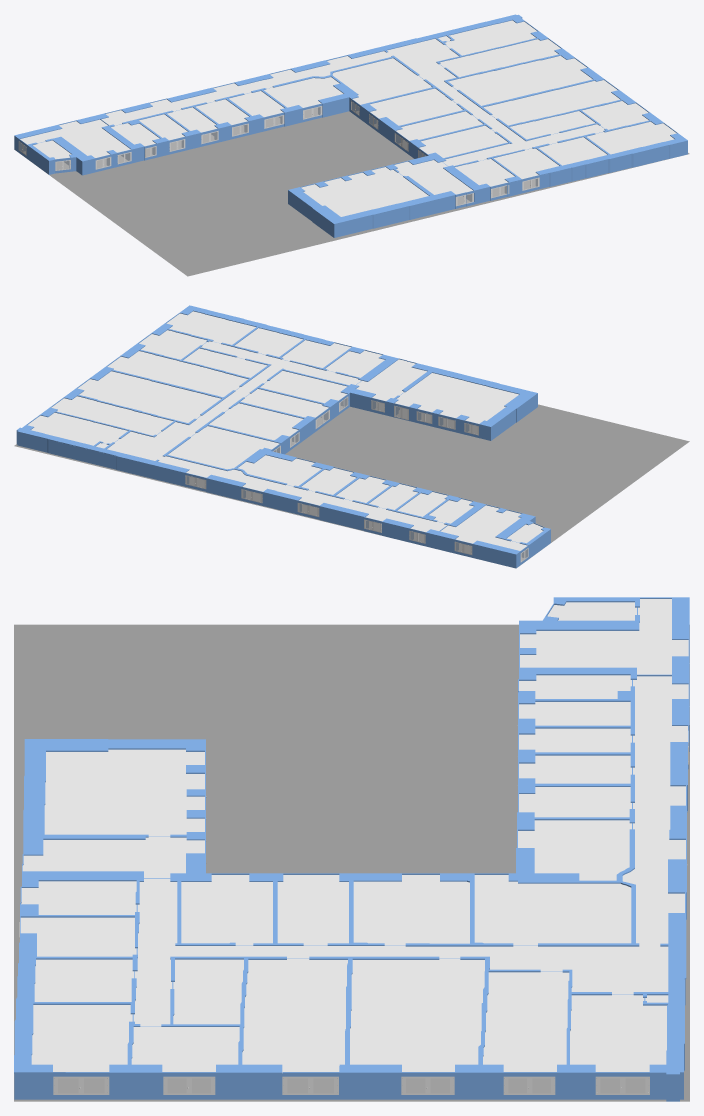
The model's file is 3rdfloor.obj.
3 views of the same model, one above another, from view 1: azimuth 30°, elevation 25°; view 2: azimuth 150°, elevation 25°; view 3: azimuth 270°, elevation 25° (orthographic). The views are drawn at different scales.
Visible parts, largest first — view 1: ground_1, room_645_3613, room_623_3589, room_612_3579, room_604_3563, room_611_3577, room_599_3553, room_613_3581, room_600_3555, room_591_3539, room_649_3617, room_608_3571 (+25 smaller); view 2: ground_1, room_645_3613, room_623_3589, room_612_3579, room_604_3563, room_611_3577, room_599_3553, room_613_3581, room_600_3555, room_591_3539, room_649_3617, room_608_3571 (+28 smaller); view 3: ground_1, room_645_3613, room_623_3589, room_612_3579, room_604_3563, room_611_3577, room_599_3553, room_613_3581, room_600_3555, room_591_3539, room_649_3617, room_608_3571 (+33 smaller).
Boxes of the visible parts, bbox=[...] form: ground_1: bbox=[15, 111, 689, 276]; room_645_3613: bbox=[101, 38, 604, 166]; room_623_3589: bbox=[144, 55, 687, 224]; room_612_3579: bbox=[448, 55, 592, 105]; room_604_3563: bbox=[301, 167, 428, 216]; room_611_3577: bbox=[483, 80, 620, 125]; room_599_3553: bbox=[332, 58, 431, 104]; room_613_3581: bbox=[440, 39, 560, 77]; room_600_3555: bbox=[370, 88, 462, 125]; room_591_3539: bbox=[20, 119, 130, 157]; room_649_3617: bbox=[444, 20, 536, 55]; room_608_3571: bbox=[586, 121, 676, 154]; ground_1: bbox=[14, 404, 689, 568]; room_645_3613: bbox=[107, 341, 446, 532]; room_623_3589: bbox=[163, 305, 537, 507]; room_612_3579: bbox=[77, 371, 221, 422]; room_604_3563: bbox=[395, 373, 518, 423]; room_611_3577: bbox=[107, 351, 247, 397]; room_599_3553: bbox=[168, 426, 279, 469]; room_613_3581: bbox=[51, 396, 173, 435]; room_600_3555: bbox=[209, 403, 303, 440]; room_591_3539: bbox=[440, 505, 527, 550]; room_649_3617: bbox=[27, 412, 127, 445]; room_608_3571: bbox=[166, 311, 255, 344]; ground_1: bbox=[14, 624, 689, 1101]; room_645_3613: bbox=[133, 676, 688, 1026]; room_623_3589: bbox=[14, 679, 639, 1073]; room_612_3579: bbox=[350, 959, 484, 1071]; room_604_3563: bbox=[44, 749, 204, 836]; room_611_3577: bbox=[242, 959, 347, 1072]; room_599_3553: bbox=[474, 875, 631, 945]; room_613_3581: bbox=[483, 971, 569, 1071]; room_600_3555: bbox=[353, 875, 469, 945]; room_591_3539: bbox=[520, 599, 688, 674]; room_649_3617: bbox=[570, 994, 666, 1071]; room_608_3571: bbox=[31, 1005, 132, 1071].
Size of the model in its own units: 9829 by 262 by 5888.
